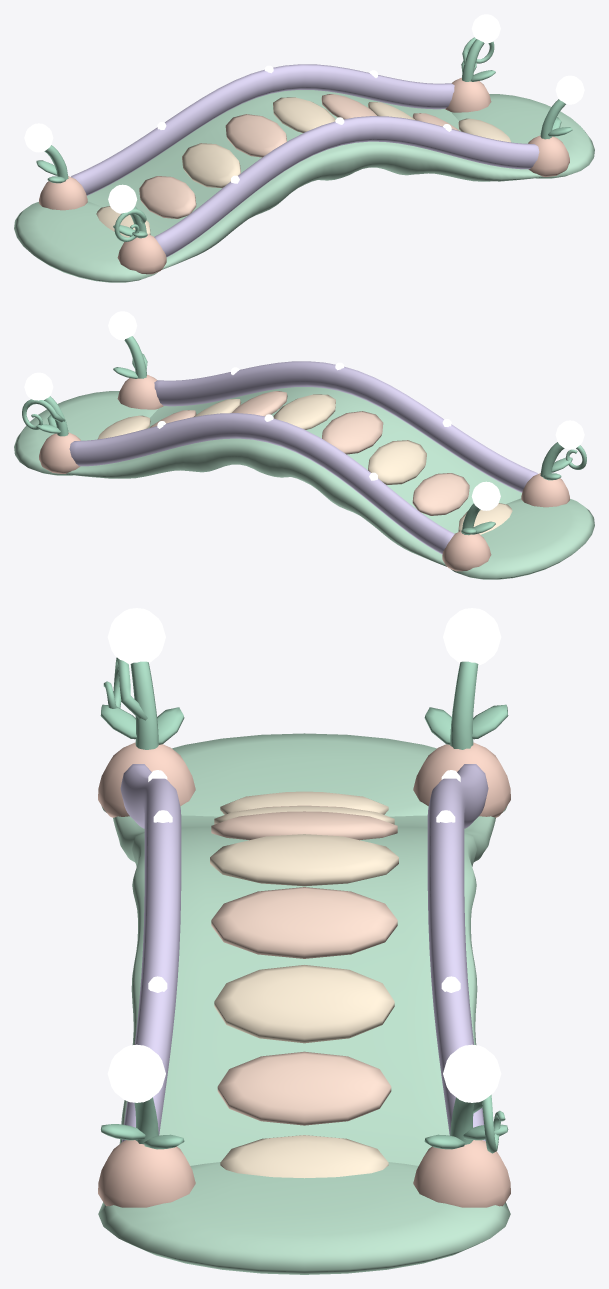
The model's file is bridge.fbx.
The picture shows the model from 3 angles, top to bottom: view 1: azimuth 30°, elevation 25°; view 2: azimuth 150°, elevation 25°; view 3: azimuth 270°, elevation 25°; orthographic projection. The views are drawn at different scales.
Visible parts, largest first — view 1: Bridge_Pod_Deck, Bridge_Rim_Front, Bridge_LandingPads, Bridge_Rim_Back, Bridge_StepPeas_Cream, Bridge_StepPeas_Peach, Bridge_SproutBases, Bridge_GlowPeas, Bridge_SproutStems, Bridge_SproutLeaves, Bridge_Tendrils; view 2: Bridge_Pod_Deck, Bridge_Rim_Back, Bridge_LandingPads, Bridge_Rim_Front, Bridge_StepPeas_Cream, Bridge_SproutBases, Bridge_StepPeas_Peach, Bridge_GlowPeas, Bridge_SproutStems, Bridge_SproutLeaves, Bridge_Tendrils; view 3: Bridge_Pod_Deck, Bridge_LandingPads, Bridge_StepPeas_Cream, Bridge_StepPeas_Peach, Bridge_SproutBases, Bridge_GlowPeas, Bridge_Rim_Front, Bridge_Rim_Back, Bridge_SproutStems, Bridge_SproutLeaves, Bridge_Tendrils.
Part boxes in pixels (bbox=[...]): Bridge_Pod_Deck: bbox=[87, 90, 542, 269]; Bridge_Rim_Front: bbox=[154, 116, 539, 257]; Bridge_LandingPads: bbox=[14, 94, 594, 282]; Bridge_Rim_Back: bbox=[71, 64, 454, 195]; Bridge_StepPeas_Cream: bbox=[96, 97, 510, 237]; Bridge_StepPeas_Peach: bbox=[139, 94, 459, 218]; Bridge_SproutBases: bbox=[39, 77, 569, 274]; Bridge_GlowPeas: bbox=[24, 14, 584, 213]; Bridge_SproutStems: bbox=[44, 39, 565, 238]; Bridge_SproutLeaves: bbox=[36, 61, 572, 237]; Bridge_Tendrils: bbox=[114, 37, 494, 241]; Bridge_Pod_Deck: bbox=[66, 387, 521, 566]; Bridge_Rim_Back: bbox=[69, 413, 454, 554]; Bridge_LandingPads: bbox=[14, 391, 594, 579]; Bridge_Rim_Front: bbox=[154, 361, 537, 492]; Bridge_StepPeas_Cream: bbox=[98, 394, 512, 534]; Bridge_SproutBases: bbox=[39, 374, 569, 571]; Bridge_StepPeas_Peach: bbox=[149, 391, 469, 515]; Bridge_GlowPeas: bbox=[24, 311, 584, 510]; Bridge_SproutStems: bbox=[44, 336, 564, 535]; Bridge_SproutLeaves: bbox=[36, 353, 572, 534]; Bridge_Tendrils: bbox=[22, 399, 586, 469]; Bridge_Pod_Deck: bbox=[113, 815, 495, 1165]; Bridge_LandingPads: bbox=[98, 733, 510, 1274]; Bridge_StepPeas_Cream: bbox=[210, 791, 398, 1178]; Bridge_StepPeas_Peach: bbox=[211, 805, 397, 1125]; Bridge_SproutBases: bbox=[98, 742, 510, 1207]; Bridge_GlowPeas: bbox=[107, 608, 501, 1102]; Bridge_Rim_Front: bbox=[120, 764, 181, 1142]; Bridge_Rim_Back: bbox=[427, 764, 488, 1141]; Bridge_SproutStems: bbox=[130, 661, 478, 1144]; Bridge_SproutLeaves: bbox=[100, 704, 508, 1149]; Bridge_Tendrils: bbox=[103, 657, 505, 1153].
Bounding box in the file's own units: 3.76 × 0.677 × 1.24.
